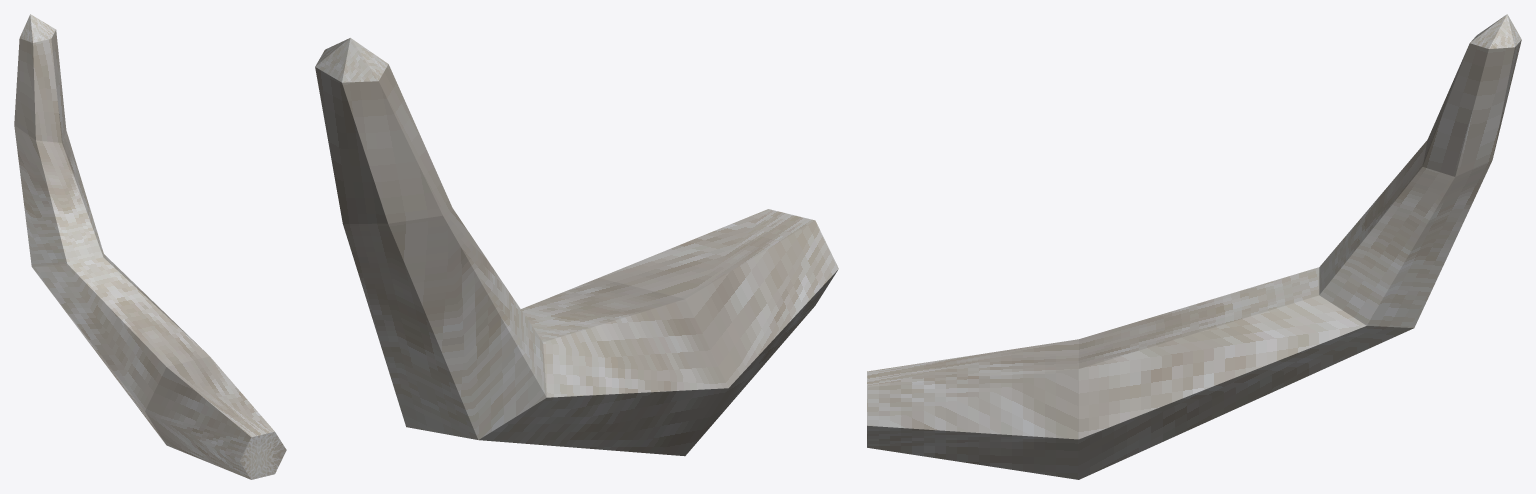
Rendered from Mushroom_Stem_C1.fbx.
The picture shows the model from 3 angles, left to right: view 1: azimuth 30°, elevation 25°; view 2: azimuth 150°, elevation 25°; view 3: azimuth 270°, elevation 25°; orthographic projection. The views are drawn at different scales.
Visible parts, largest first — view 1: Mushroom_Stem_C; view 2: Mushroom_Stem_C; view 3: Mushroom_Stem_C.
Part boxes in pixels (x1=…): Mushroom_Stem_C: x1=14, y1=14, x2=286, y2=479; Mushroom_Stem_C: x1=315, y1=38, x2=838, y2=456; Mushroom_Stem_C: x1=867, y1=14, x2=1521, y2=479.
Bounding box in the file's own units: 0.2789 × 0.8622 × 1.15.
